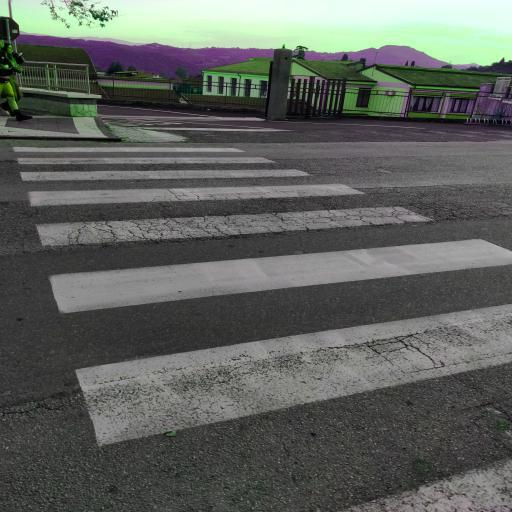crosswalk: (14, 182, 454, 249), (2, 140, 284, 168)
